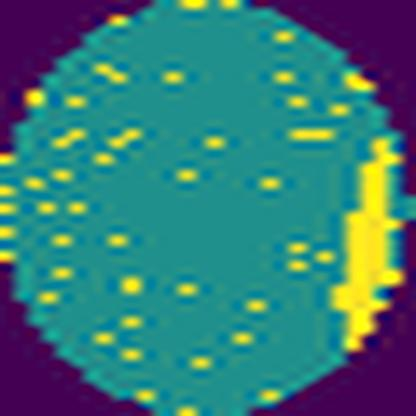Loc: (331, 137, 403, 352)
